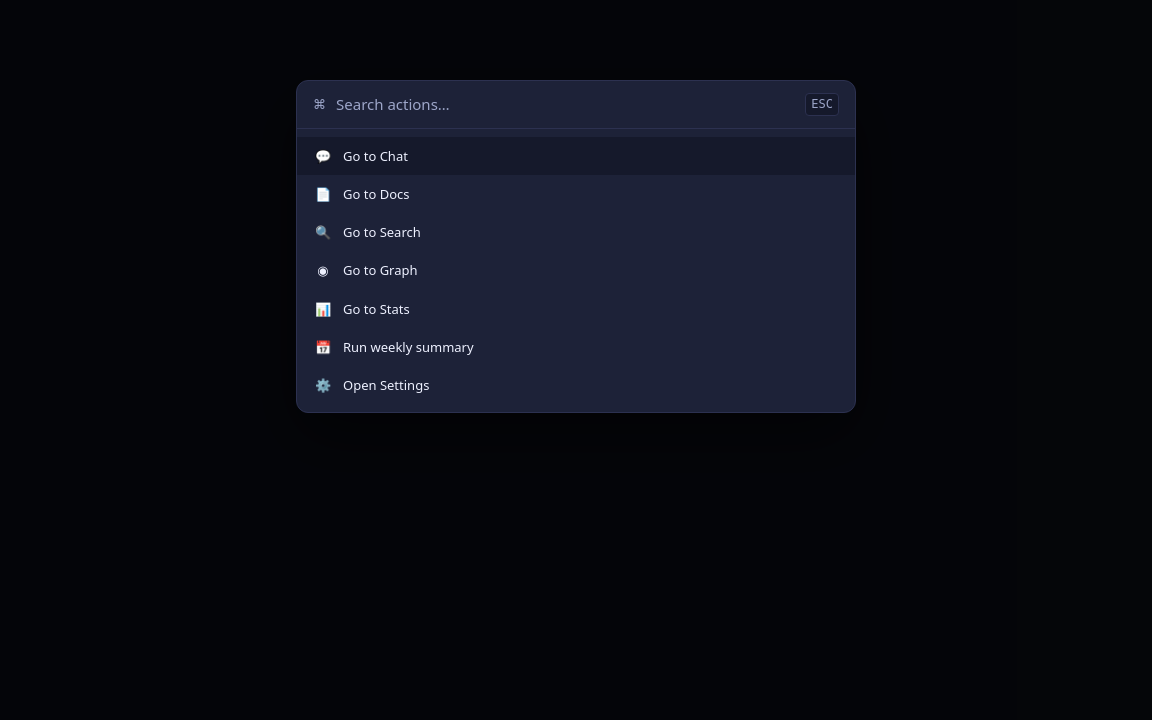
Test: CommandPalette › shows "No actions found" for unmatched query
Step 1. Type "xyznonexistent" into the field → (566, 104), box [336, 94, 795, 114]
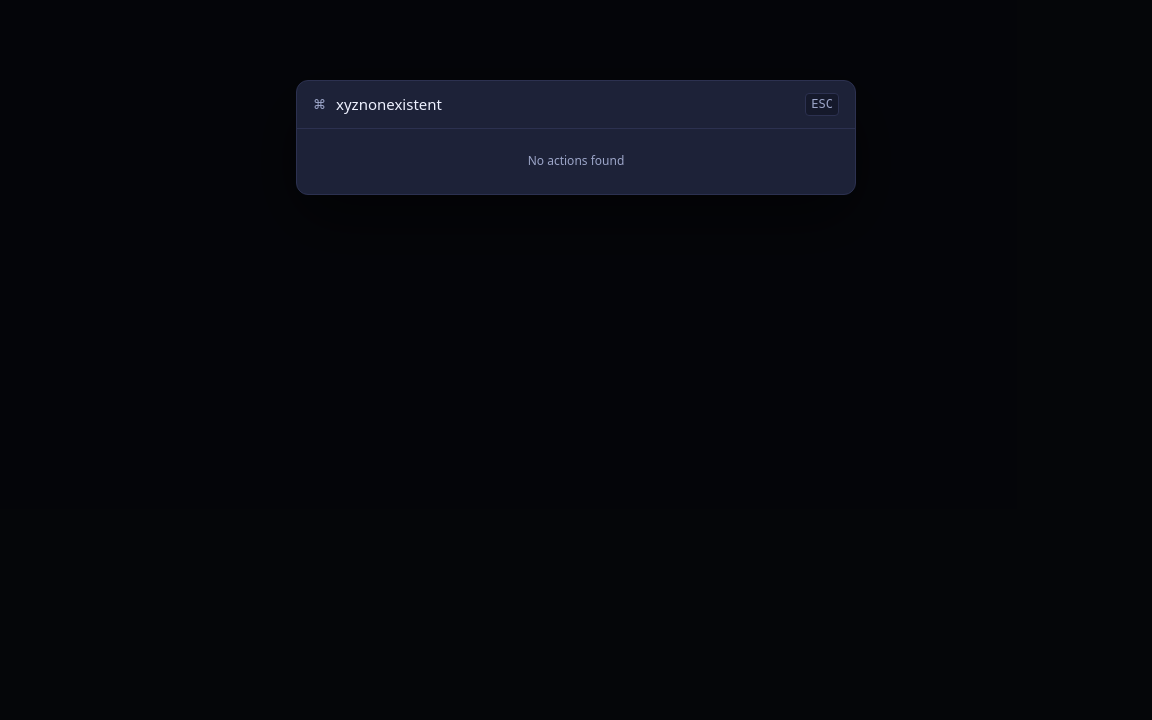
expect the list item "No actions found" is shown: met, box [528, 152, 624, 169]
